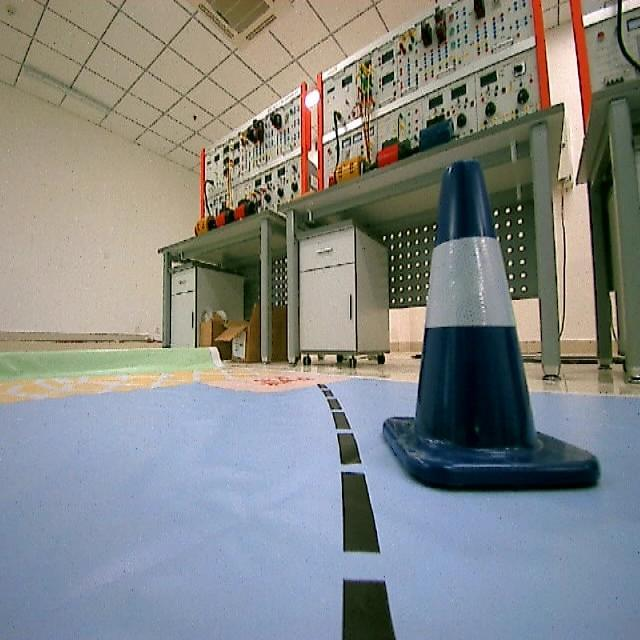obstacle: (372, 144, 602, 502)
